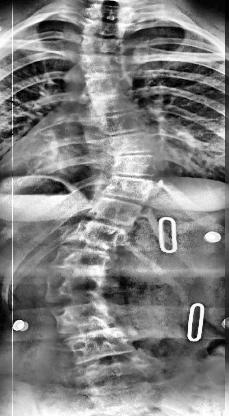Vertebrae: (75, 362, 155, 400), (62, 327, 139, 360), (42, 272, 110, 304), (48, 300, 119, 330), (67, 220, 129, 252), (86, 195, 146, 227), (48, 244, 112, 274), (102, 173, 154, 205), (103, 130, 159, 156), (112, 151, 160, 179), (80, 70, 130, 96), (88, 88, 138, 114), (99, 112, 148, 136), (84, 2, 134, 24), (77, 51, 126, 73), (81, 19, 127, 39), (77, 37, 127, 55)
